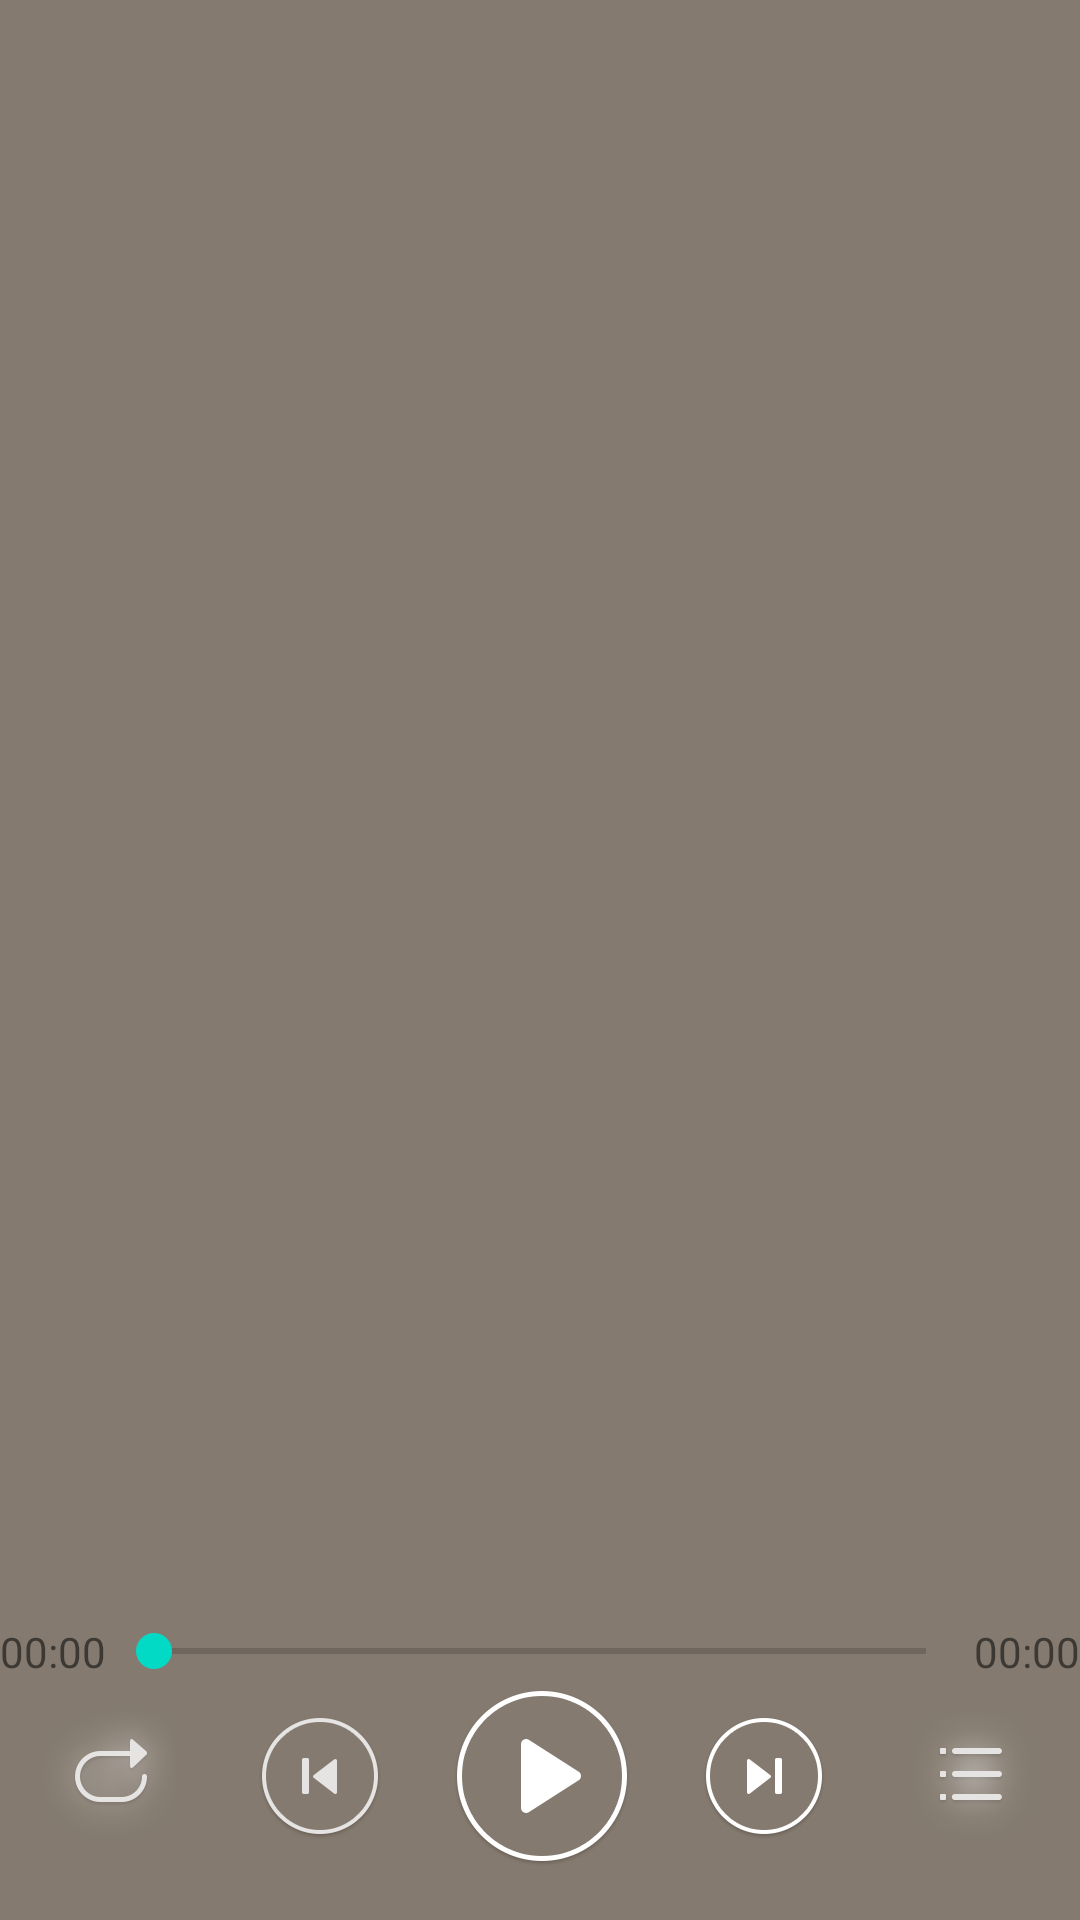

Icon click points for this 1080w x 1920h phone screenshot, format [x,y]:
play loop prs: [112,1770]
play next prs: [764,1776]
play prew: [320,1776]
play prs: [542,1776]
